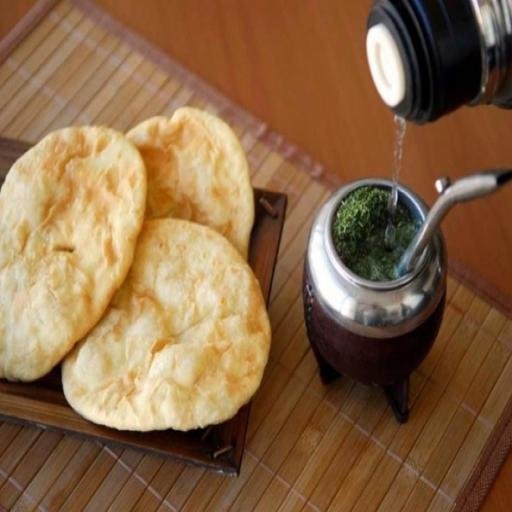bolleria: (62, 219, 271, 431), (0, 126, 147, 381), (126, 107, 254, 259)
mate: (304, 171, 510, 421)
termo: (367, 0, 511, 124)
